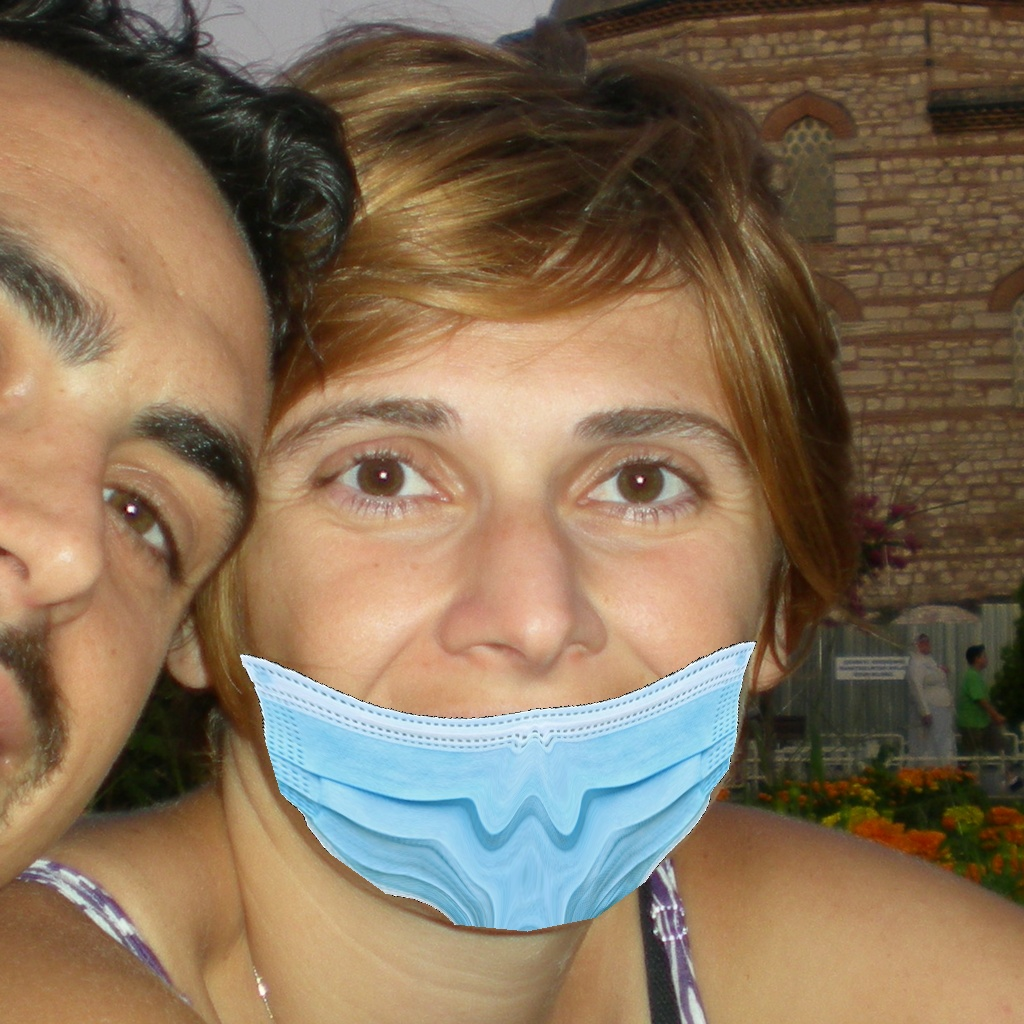mascarilla_mal_puesta: (289, 435, 782, 913)
